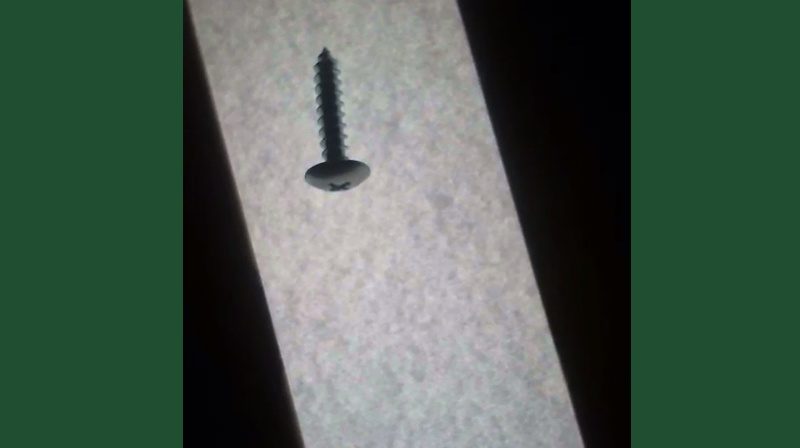S003: (303, 42, 373, 195)
